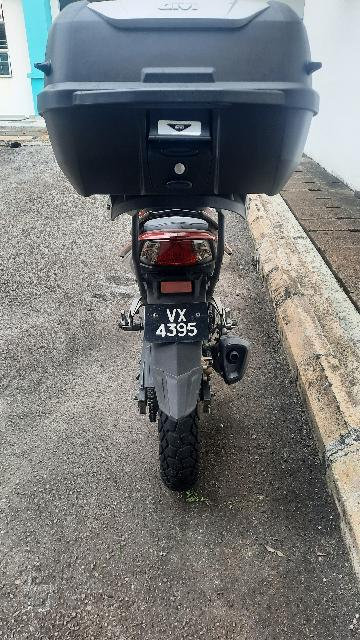License_Plate: (136, 296, 230, 355)
motorcycle: (34, 9, 331, 497)
